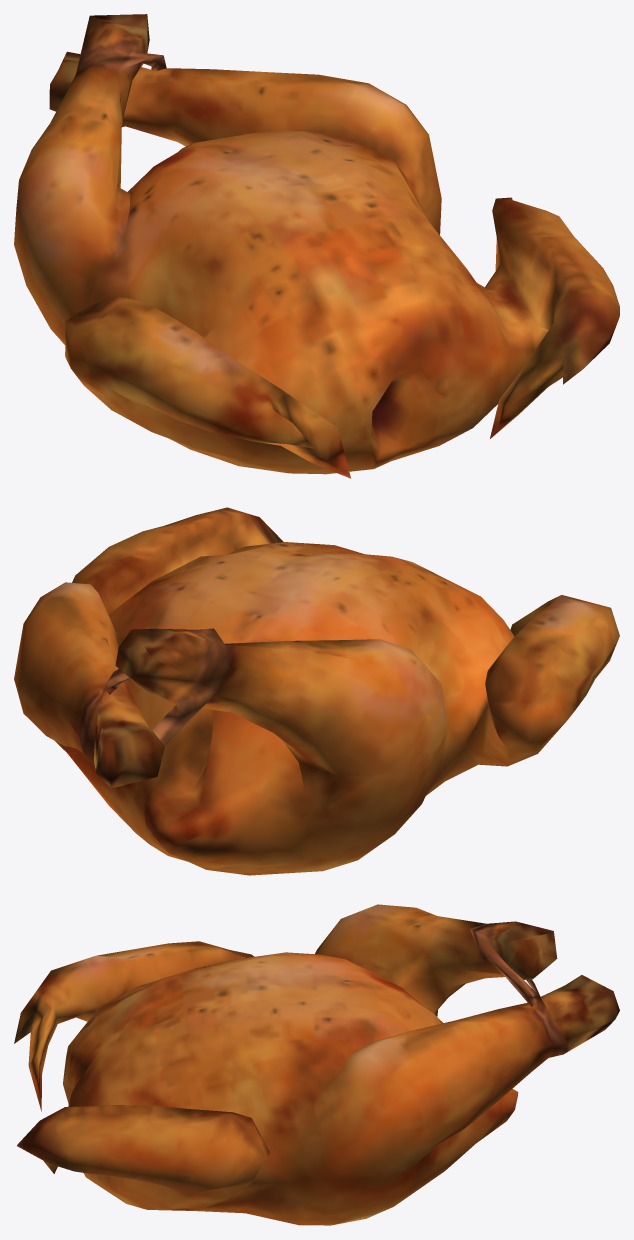
The model's file is ref_roastchicken.fbx.
The picture shows the model from 3 angles, top to bottom: view 1: azimuth 30°, elevation 25°; view 2: azimuth 150°, elevation 25°; view 3: azimuth 270°, elevation 25°; orthographic projection. The views are drawn at different scales.
Parts seen in each view (by area): view 1: ref_roastchicken_part0; view 2: ref_roastchicken_part0; view 3: ref_roastchicken_part0.
Part boxes in pixels (<box>): ref_roastchicken_part0: <box>14,14,619,478</box>; ref_roastchicken_part0: <box>14,507,619,875</box>; ref_roastchicken_part0: <box>14,904,619,1225</box>.
Bounding box in the file's own units: 80.23 × 48.23 × 100.
